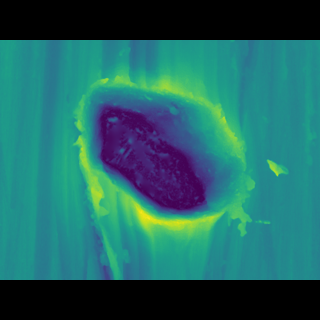Loch: (61, 84, 251, 220)
